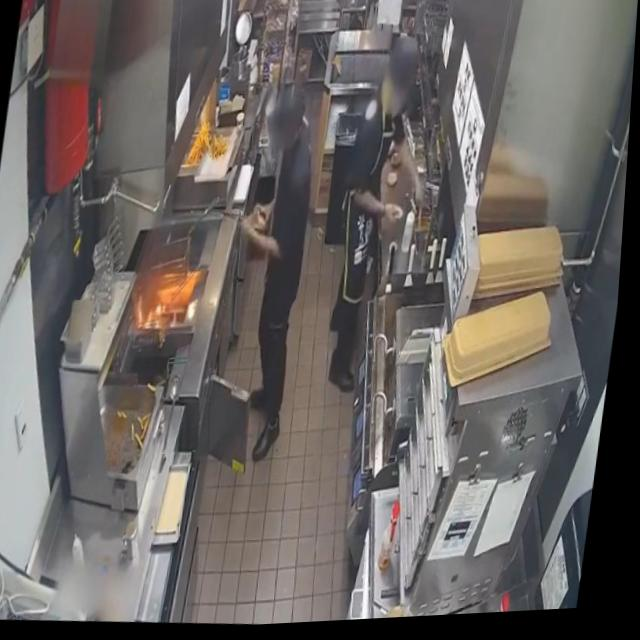fire: (140, 301, 171, 331)
